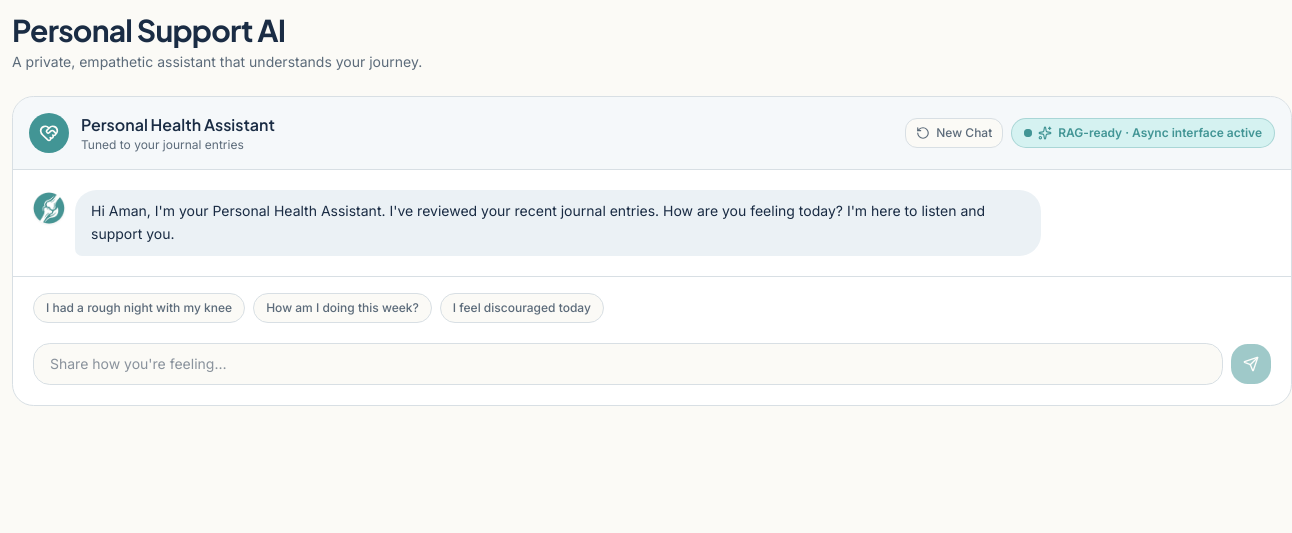
PersonalAI › sends a message and shows the user bubble immediately
Type "Hello there" into the field.
click(628, 364); type("Hello there")  # box [33,342,1223,384]
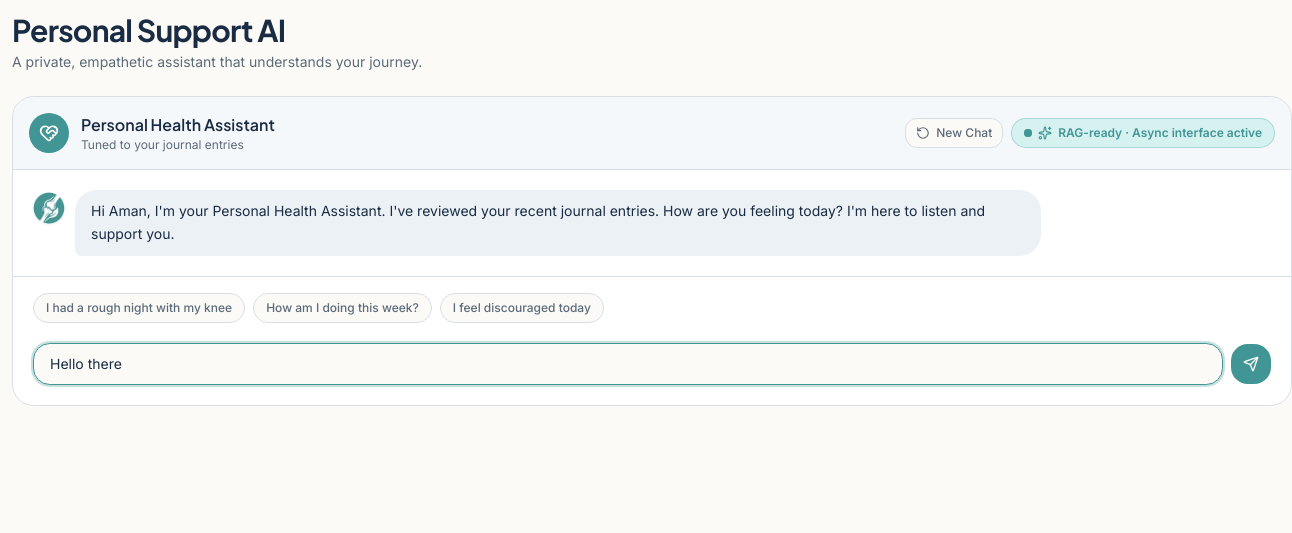
Press Enter
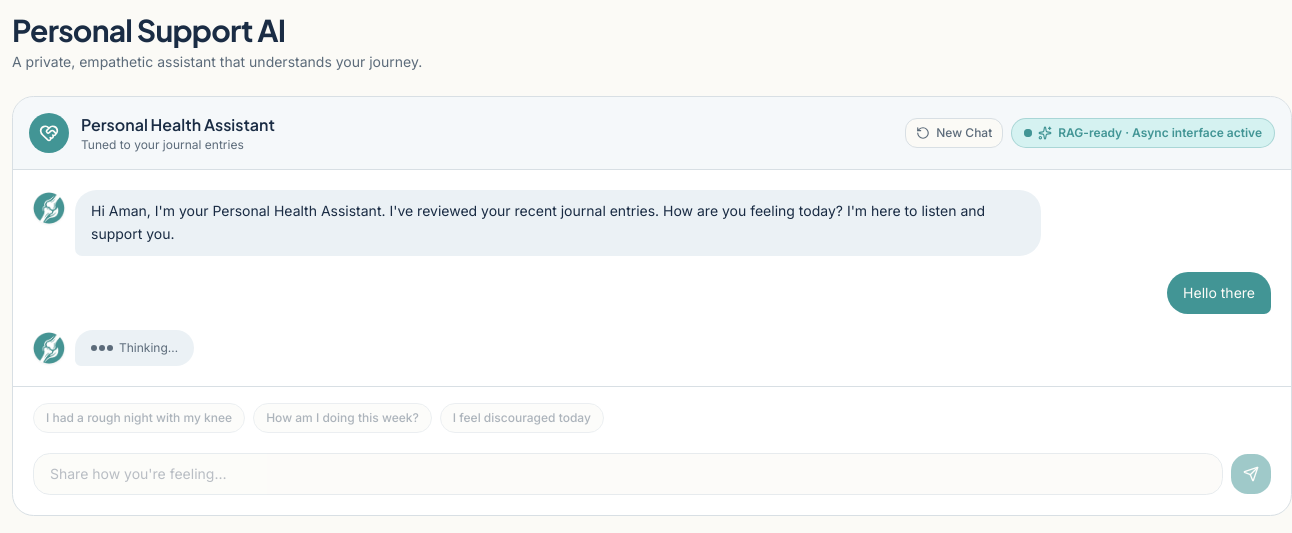
Check: the text "Hello there" is shown, box [1183,282,1255,304]
